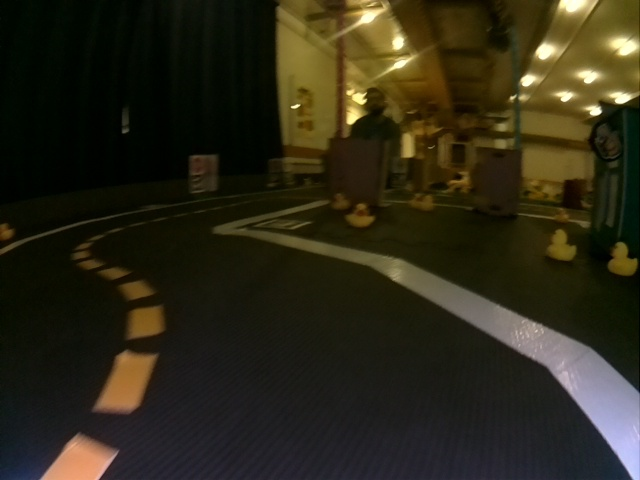Duckie: (609, 243, 636, 276), (548, 232, 575, 258), (348, 204, 374, 226), (332, 193, 351, 210), (1, 224, 12, 239), (423, 199, 433, 210)
QR code: (254, 219, 311, 229), (189, 176, 206, 191)
